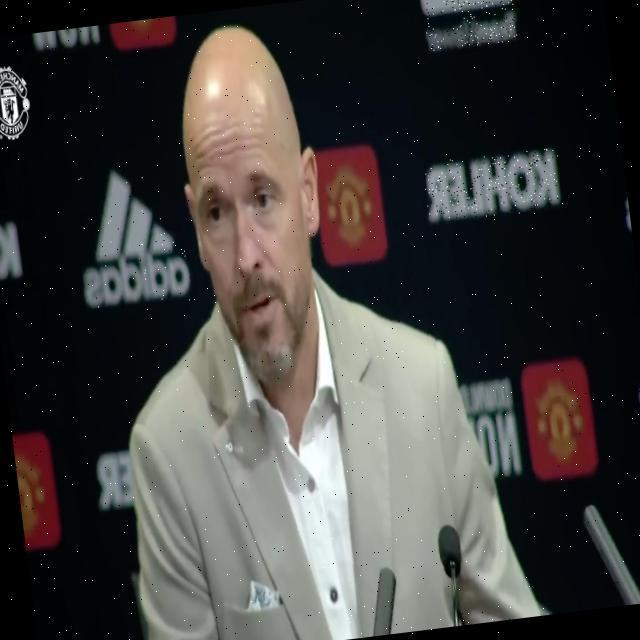Adidas: (69, 160, 193, 313)
Kohler: (422, 146, 564, 225)
TeamViewer: (419, 0, 517, 51)
